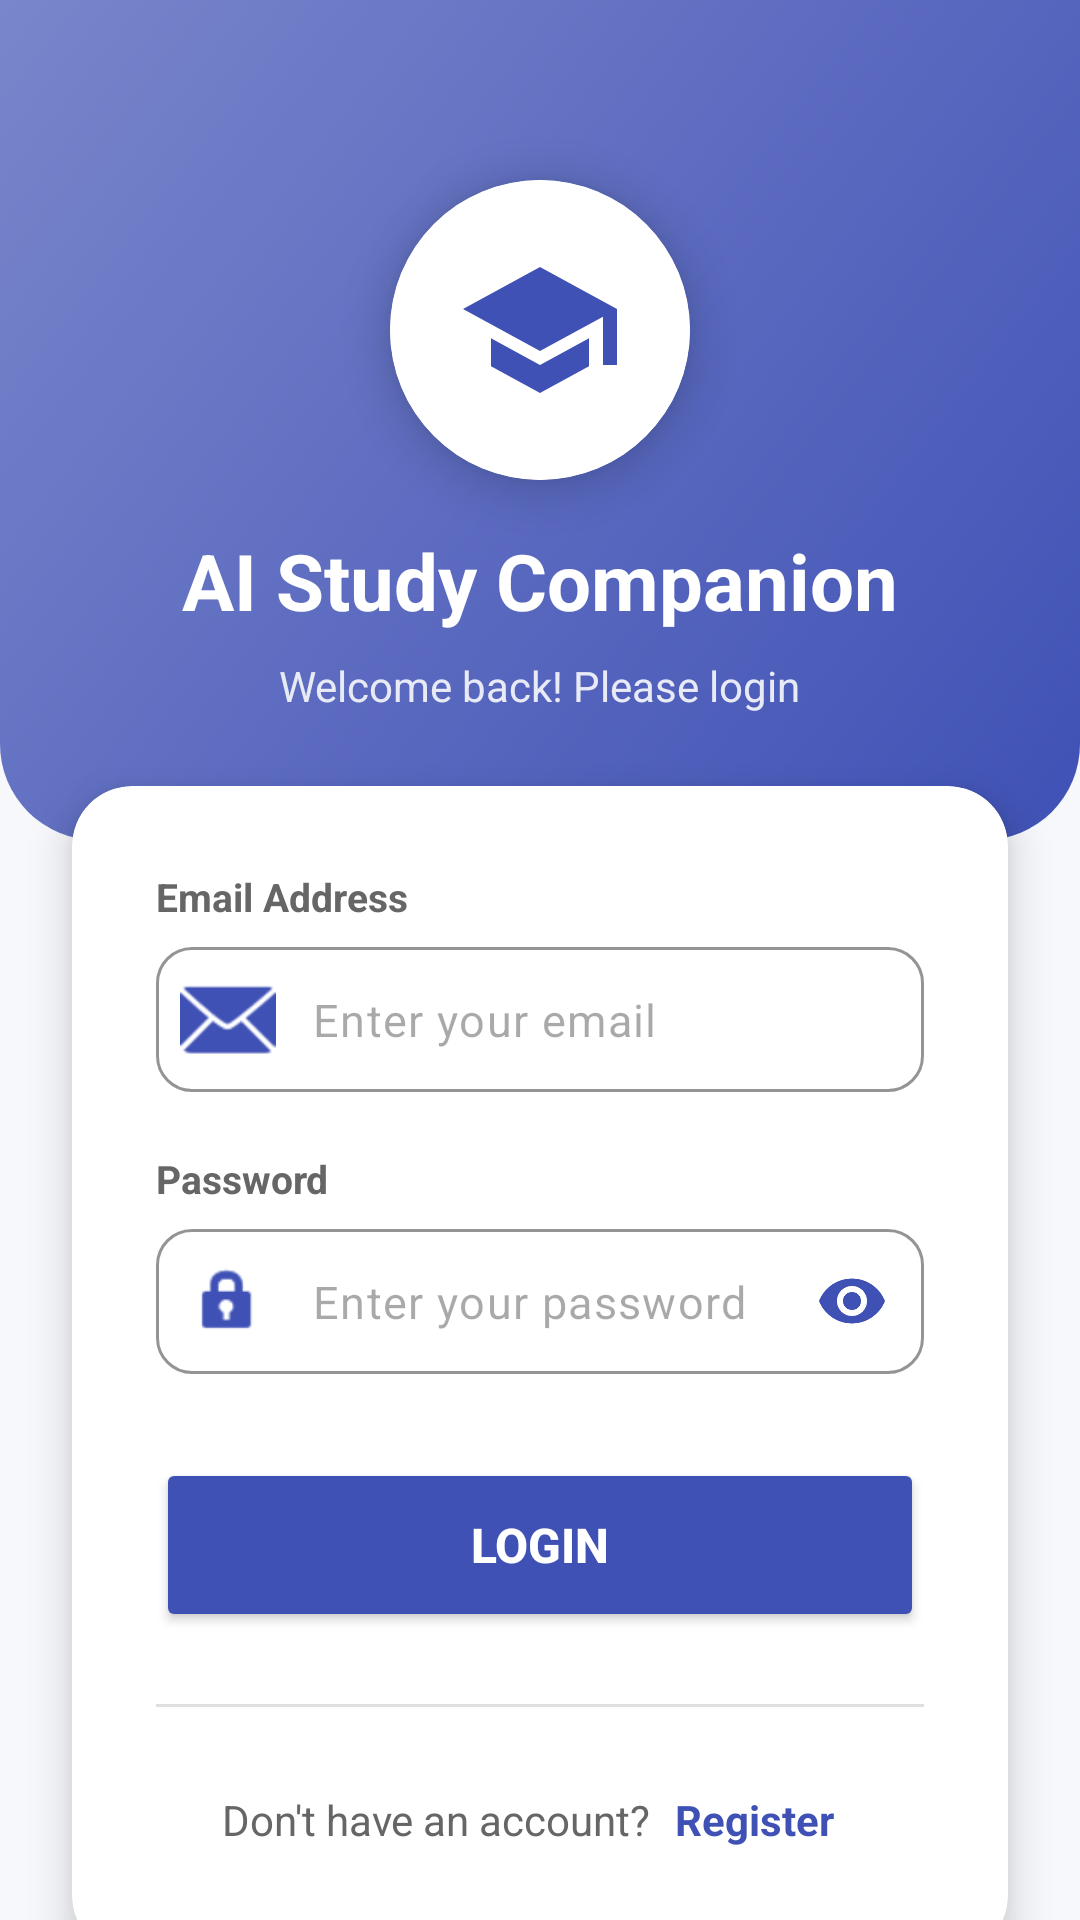

Screen size 1080px x 1920px. Icon name, then its center in pixels as (x,y):
graduation cap: (540,330)
